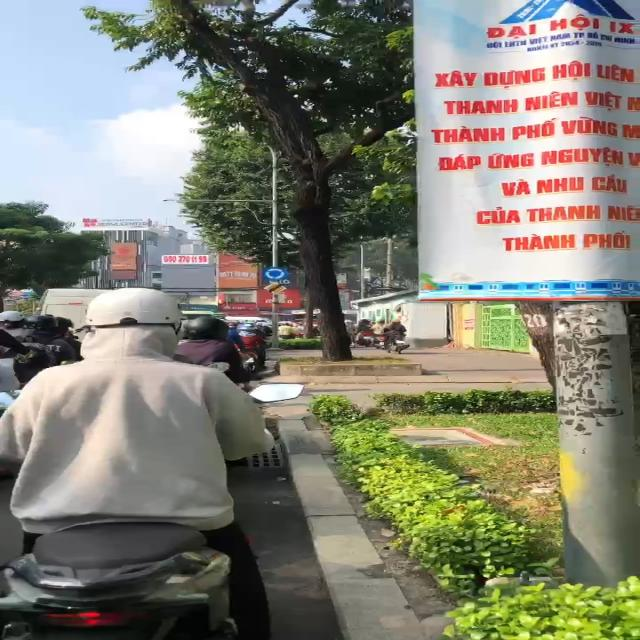Bien bao noi giao nhau chay theo vong xuyen: (260, 265, 288, 282)
